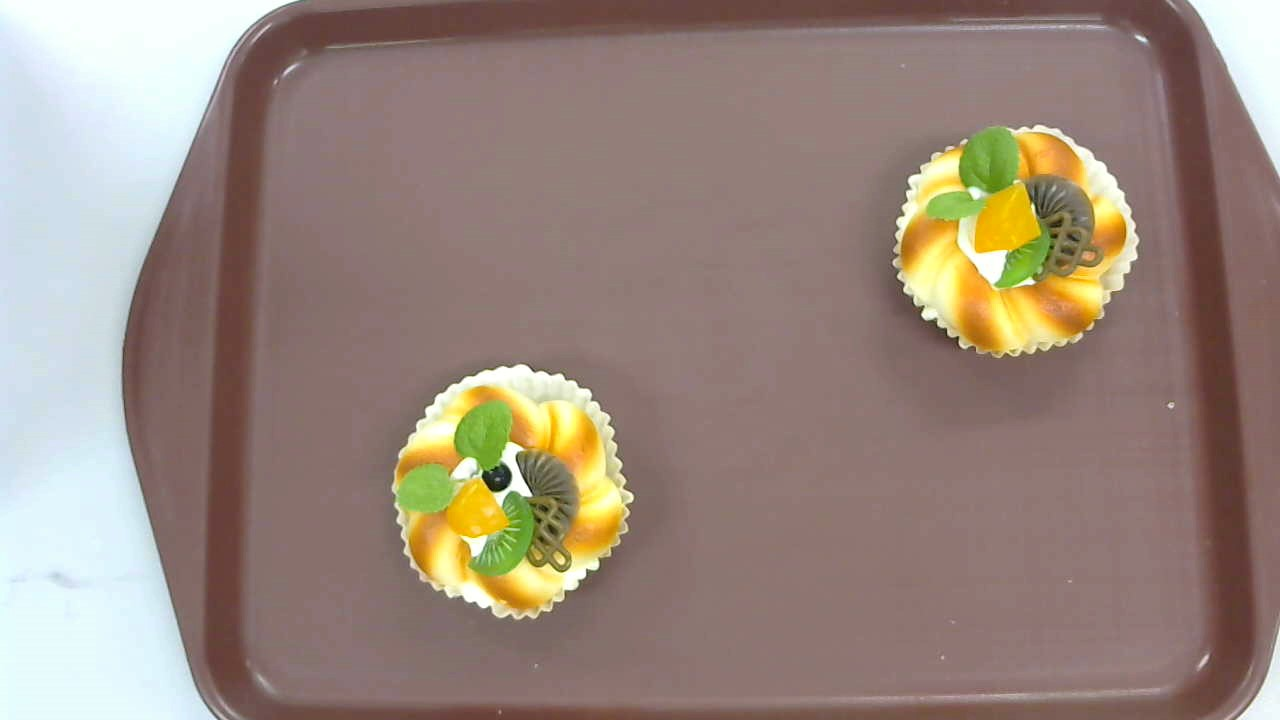fruit tart: (392, 363, 635, 618), (891, 124, 1140, 360)
